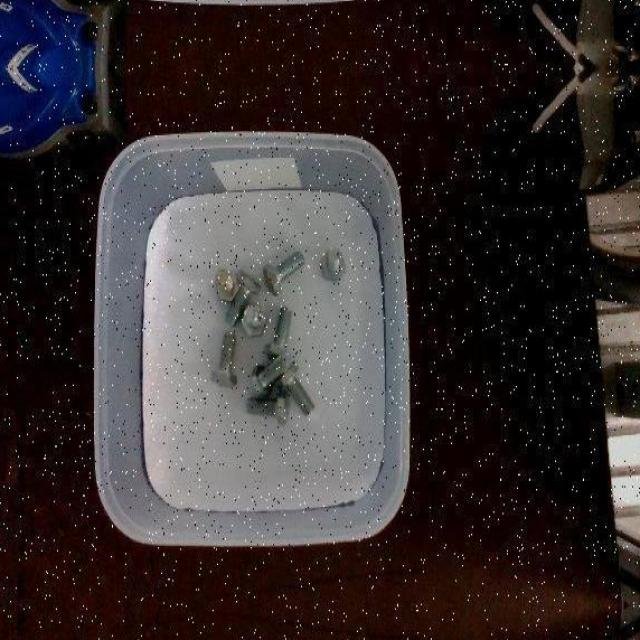screw: (278, 360, 316, 416), (223, 270, 260, 326), (263, 248, 305, 295), (252, 352, 292, 398), (247, 388, 290, 426), (212, 329, 237, 385), (321, 246, 346, 282), (241, 304, 266, 334), (215, 270, 238, 299)
